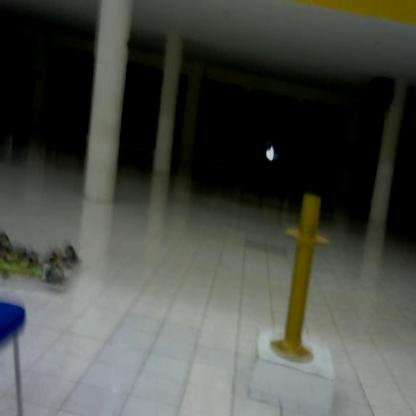pole: (269, 186, 337, 369)
